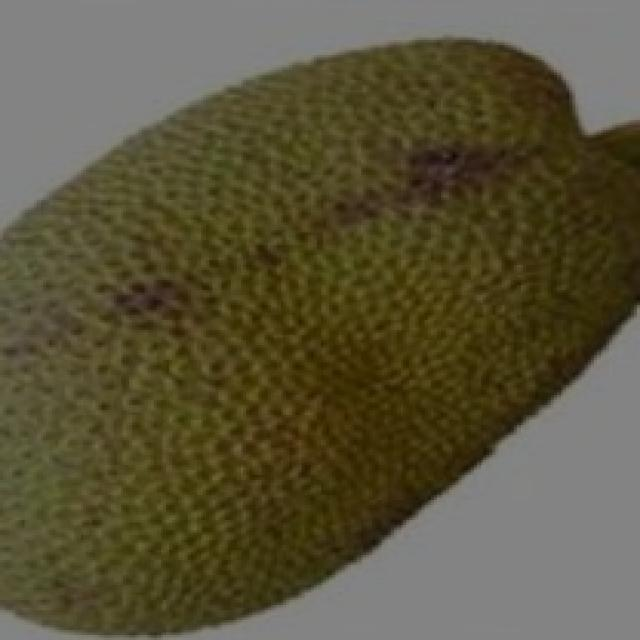Fruit: (0, 270, 403, 640), (3, 38, 412, 378), (225, 8, 637, 320)
